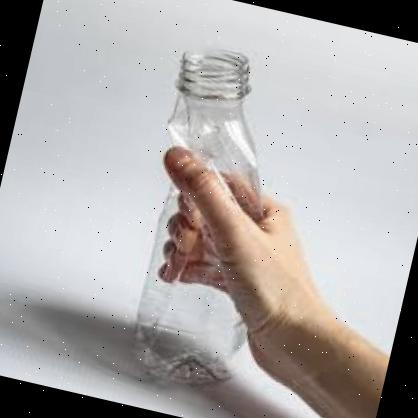bottle: (86, 26, 324, 400)
